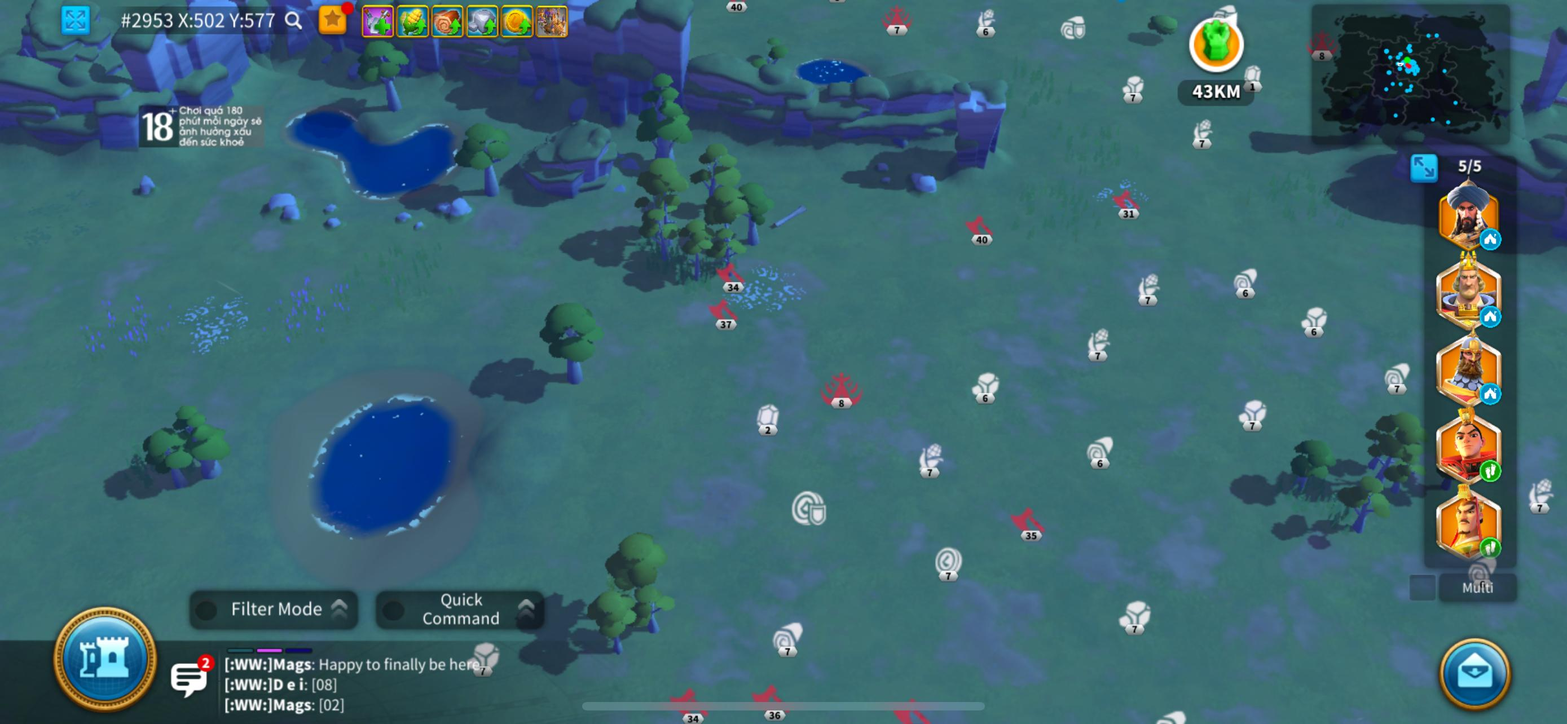gem-z-out: (755, 402, 781, 431)
march_idle: (1479, 228, 1502, 251), (1479, 305, 1502, 328), (1479, 383, 1502, 405)
march_marching: (1479, 459, 1502, 483), (1479, 537, 1502, 560)
